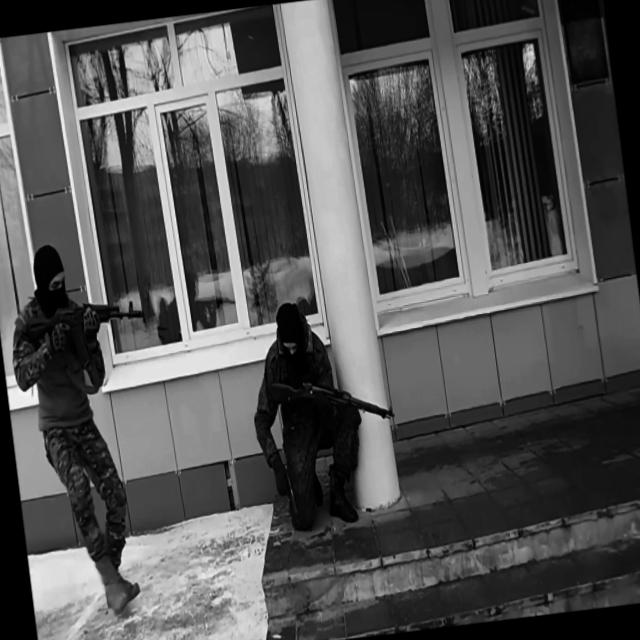gun: (23, 291, 150, 378), (268, 362, 397, 436), (271, 464, 301, 521)
person with a gun: (0, 232, 181, 627), (240, 288, 408, 536)
